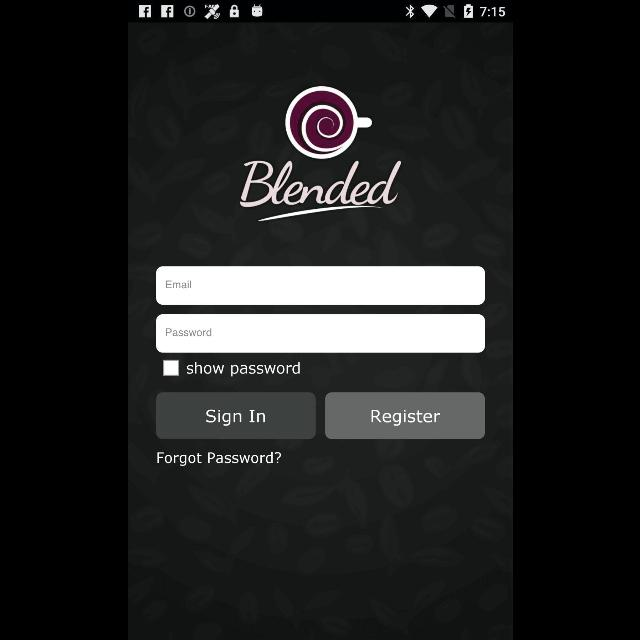checkbox: (162, 359, 178, 376)
image: (238, 86, 402, 222)
input: (156, 266, 484, 306), (156, 314, 484, 354)
text: (185, 361, 298, 377), (157, 452, 281, 466), (165, 328, 211, 336), (165, 281, 191, 289)
textbutton: (155, 392, 315, 440), (324, 392, 484, 440)
uppertaskbar: (128, 1, 512, 23)
